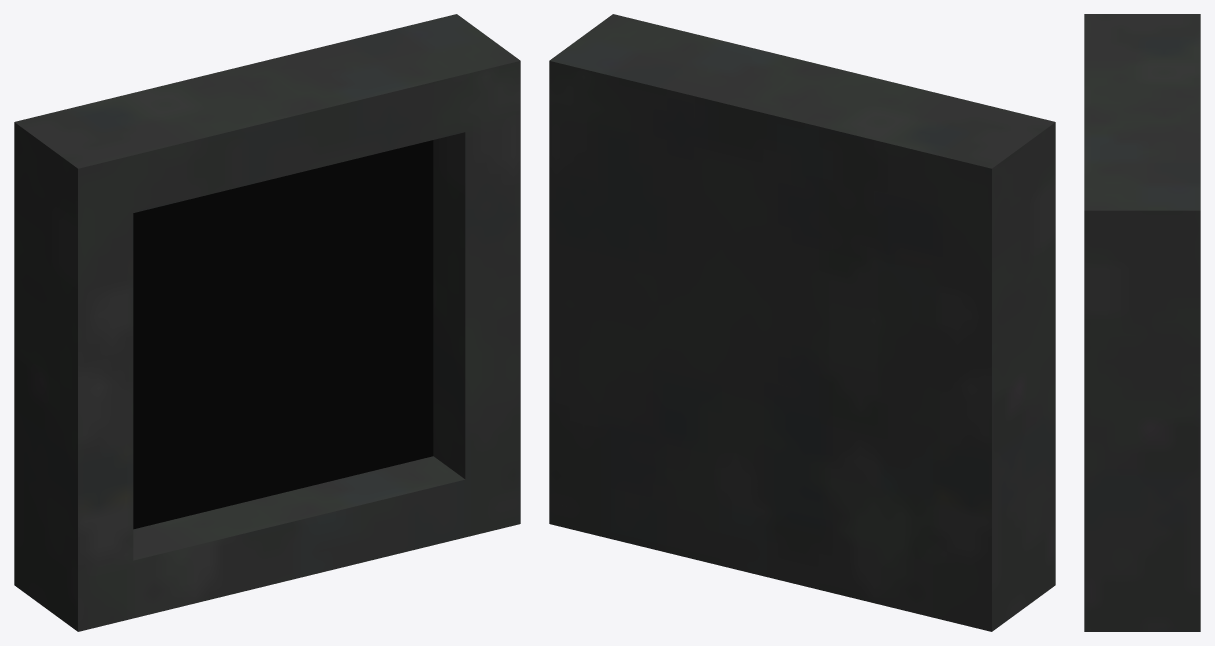
The model's file is button.vmf.obj.
3 views of the same model, side by side, from view 1: azimuth 30°, elevation 25°; view 2: azimuth 150°, elevation 25°; view 3: azimuth 270°, elevation 25° (orthographic). The views are drawn at different scales.
Parts seen in each view (by area): view 1: 4, 3, 7, 5, 6; view 2: 4, 3, 7; view 3: 4, 5, 3.
Boxes of the visible parts, left/top/right/bottom form: 4: left=14, top=14, right=488, bottom=608; 3: left=46, top=37, right=520, bottom=226; 7: left=46, top=203, right=133, bottom=631; 5: left=433, top=118, right=520, bottom=537; 6: left=133, top=456, right=465, bottom=618; 4: left=549, top=37, right=1023, bottom=631; 3: left=581, top=14, right=1055, bottom=202; 7: left=1023, top=180, right=1055, bottom=608; 4: left=1142, top=14, right=1200, bottom=631; 5: left=1084, top=263, right=1142, bottom=631; 3: left=1084, top=14, right=1142, bottom=263.
Size of the model in its own units: 8 by 8 by 2.
2 materials, 2 textured.
